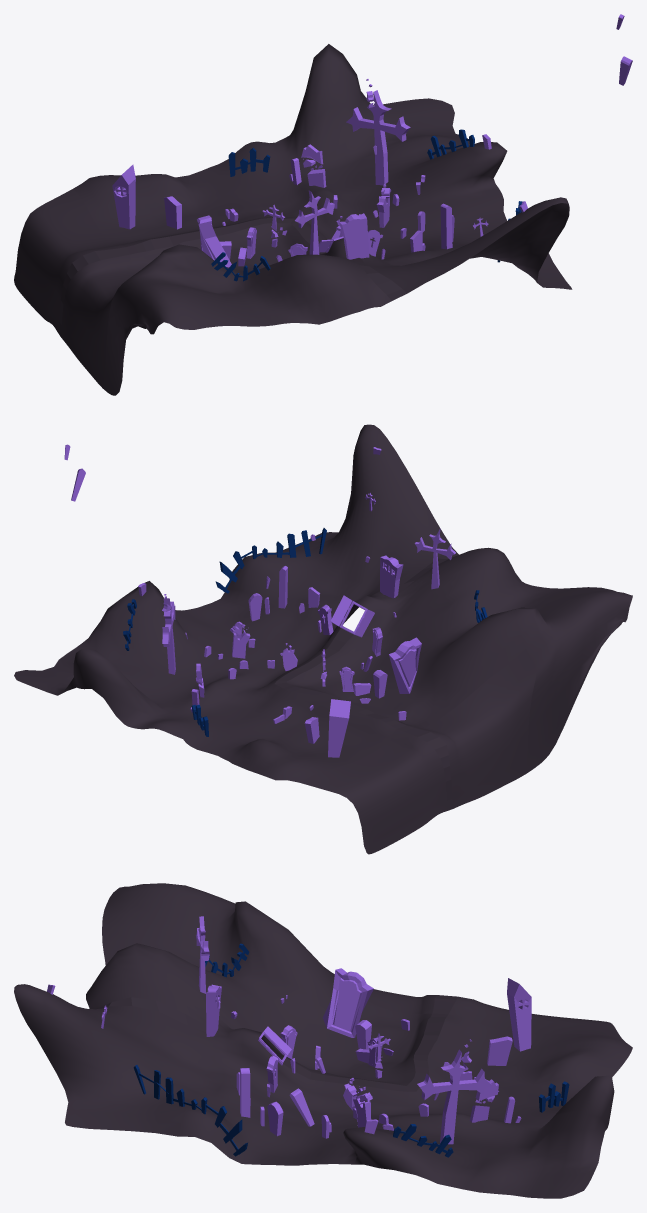
The model's file is tokotokoStageModel_Stage1.fbx.
The picture shows the model from 3 angles, top to bottom: view 1: azimuth 30°, elevation 25°; view 2: azimuth 150°, elevation 25°; view 3: azimuth 270°, elevation 25°; orthographic projection. The views are drawn at different scales.
Visible parts, largest first — view 1: graveyardÄLÄPOSTAAAAAAA, graveyardÄLÄPOSTAAAAAAA.001; view 2: graveyardÄLÄPOSTAAAAAAA, graveyardÄLÄPOSTAAAAAAA.001; view 3: graveyardÄLÄPOSTAAAAAAA, graveyardÄLÄPOSTAAAAAAA.001.
Part boxes in pixels (box(x1,y1,x2,y2)): graveyardÄLÄPOSTAAAAAAA: box(73, 14, 632, 395); graveyardÄLÄPOSTAAAAAAA.001: box(14, 189, 131, 388); graveyardÄLÄPOSTAAAAAAA: box(14, 424, 632, 782); graveyardÄLÄPOSTAAAAAAA.001: box(300, 649, 536, 854); graveyardÄLÄPOSTAAAAAAA: box(14, 883, 632, 1198); graveyardÄLÄPOSTAAAAAAA.001: box(324, 967, 620, 1037).
Size of the model in its own units: 23796 by 10369 by 21698.
